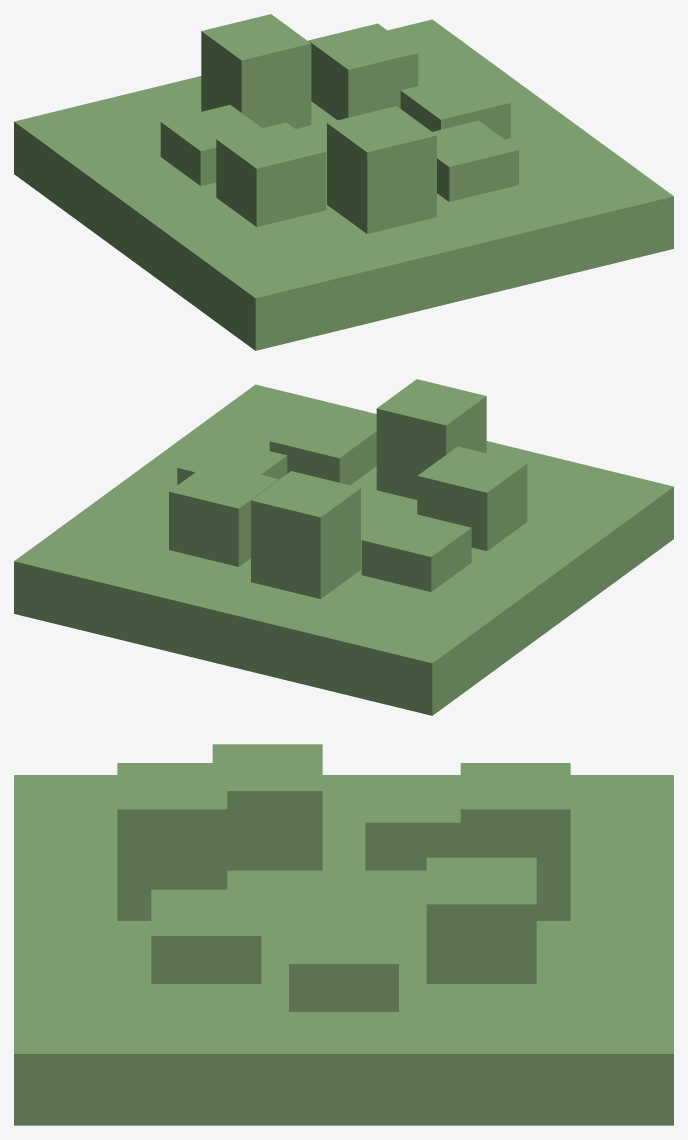
The model's file is shrubland.glb.
3 views of the same model, one above another, from view 1: azimuth 30°, elevation 25°; view 2: azimuth 150°, elevation 25°; view 3: azimuth 270°, elevation 25° (orthographic). The views are drawn at different scales.
Visible parts, largest first — view 1: shrubland base, shrubland relief.005, shrubland relief.002, shrubland relief.004, shrubland relief.001, shrubland relief.006, shrubland relief, shrubland relief.003; view 2: shrubland base, shrubland relief.002, shrubland relief.005, shrubland relief.004, shrubland relief.001, shrubland relief.003, shrubland relief.006, shrubland relief; view 3: shrubland base, shrubland relief.005, shrubland relief.001, shrubland relief.002, shrubland relief.004, shrubland relief.006, shrubland relief, shrubland relief.003.
Part boxes in pixels (left/top/right/bottom): shrubland base: left=14, top=19, right=673, bottom=350; shrubland relief.005: left=327, top=106, right=436, bottom=233; shrubland relief.002: left=201, top=14, right=311, bottom=128; shrubland relief.004: left=216, top=122, right=326, bottom=226; shrubland relief.001: left=308, top=23, right=418, bottom=120; shrubland relief.006: left=432, top=120, right=518, bottom=201; shrubland relief: left=400, top=73, right=510, bottom=139; shrubland relief.003: left=160, top=105, right=261, bottom=185; shrubland base: left=14, top=384, right=673, bottom=715; shrubland relief.002: left=251, top=471, right=360, bottom=598; shrubland relief.005: left=376, top=379, right=486, bottom=499; shrubland relief.004: left=417, top=446, right=527, bottom=550; shrubland relief.001: left=169, top=462, right=278, bottom=566; shrubland relief.003: left=361, top=510, right=471, bottom=591; shrubland relief.006: left=269, top=412, right=376, bottom=485; shrubland relief: left=177, top=438, right=287, bottom=485; shrubland base: left=14, top=775, right=673, bottom=1125; shrubland relief.005: left=117, top=763, right=227, bottom=920; shrubland relief.001: left=426, top=857, right=536, bottom=983; shrubland relief.002: left=460, top=763, right=570, bottom=920; shrubland relief.004: left=212, top=744, right=322, bottom=870; shrubland relief.006: left=151, top=889, right=261, bottom=983; shrubland relief: left=289, top=917, right=398, bottom=1011; shrubland relief.003: left=365, top=776, right=460, bottom=870.
Bounding box in the file's own units: 3 × 0.92 × 3.
